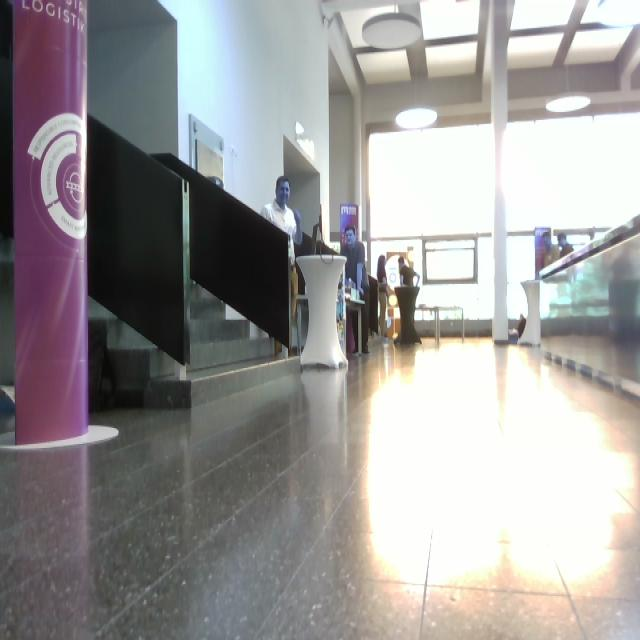door: (150, 152, 285, 373)
light bulb: (362, 12, 423, 50), (545, 65, 591, 113), (596, 1, 640, 28), (396, 108, 438, 130), (546, 94, 591, 113)
person: (341, 224, 371, 356)
pillar: (12, 1, 90, 445), (490, 1, 515, 344)
staircase: (87, 112, 302, 410)
table: (294, 252, 352, 376)
tiled floor: (1, 331, 639, 639)
